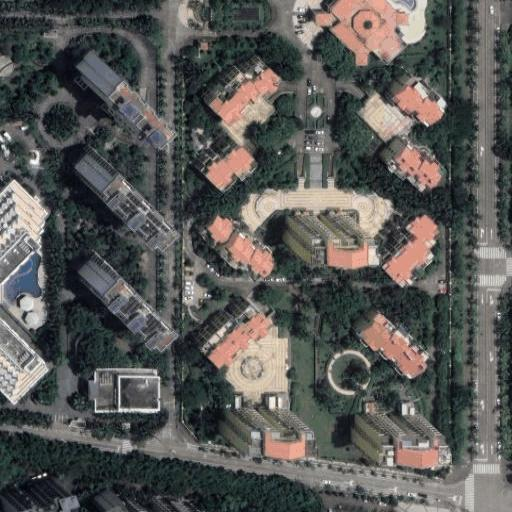building: (75, 147, 151, 223), (76, 250, 151, 327), (306, 0, 401, 58), (76, 49, 145, 117), (208, 212, 274, 275), (352, 304, 417, 367), (99, 483, 238, 512), (191, 296, 255, 355), (0, 182, 46, 260), (348, 81, 405, 139), (199, 63, 250, 114), (382, 66, 433, 116), (96, 370, 157, 411), (0, 473, 64, 512), (371, 227, 419, 276), (377, 134, 426, 181), (314, 497, 449, 512), (284, 215, 348, 242), (352, 413, 416, 439), (220, 405, 285, 428), (232, 46, 270, 85), (207, 132, 241, 167), (396, 206, 428, 238), (189, 146, 221, 178), (0, 44, 15, 76), (403, 401, 414, 413), (365, 402, 376, 413), (43, 30, 57, 37), (268, 395, 276, 405), (235, 396, 241, 405), (276, 397, 282, 405)
